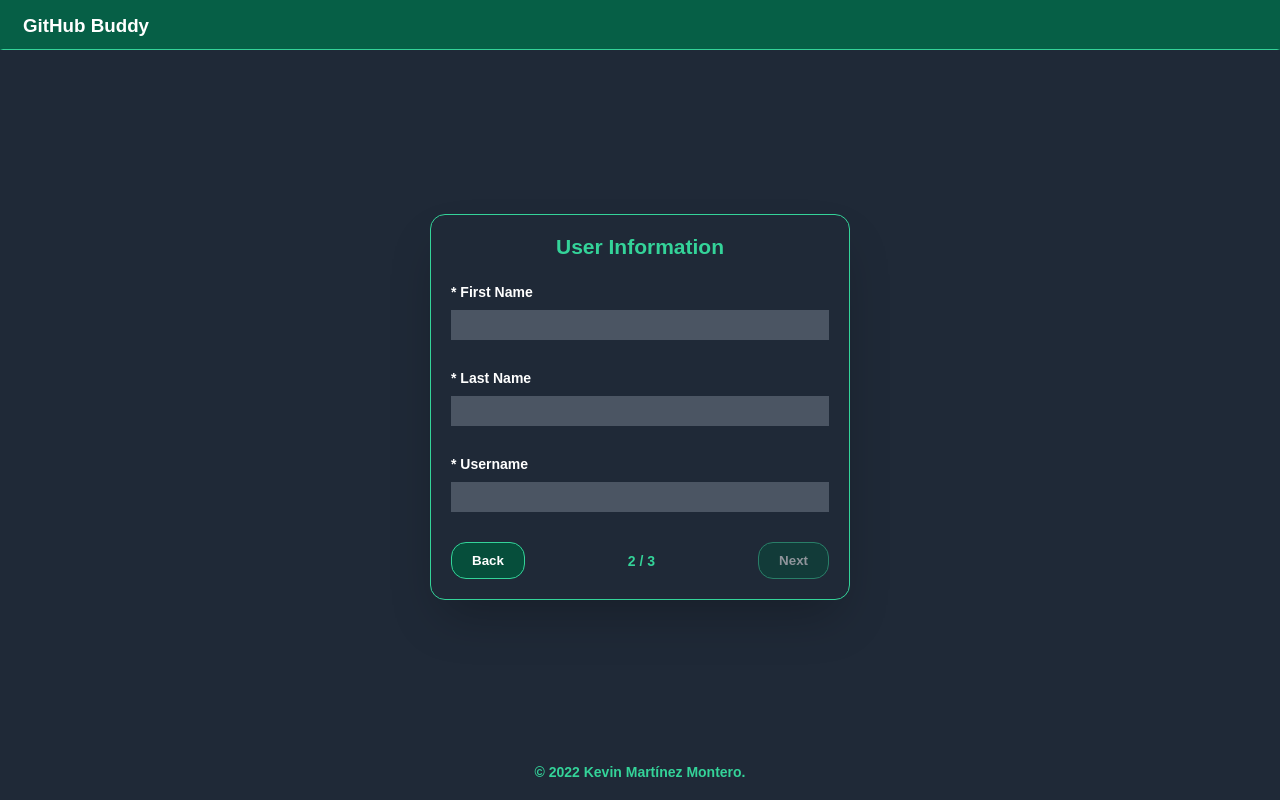
Scenario: Form One › should show error for required last name
Focus the field labelled "* Last Name" at (640, 411), box [451,396,829,426]
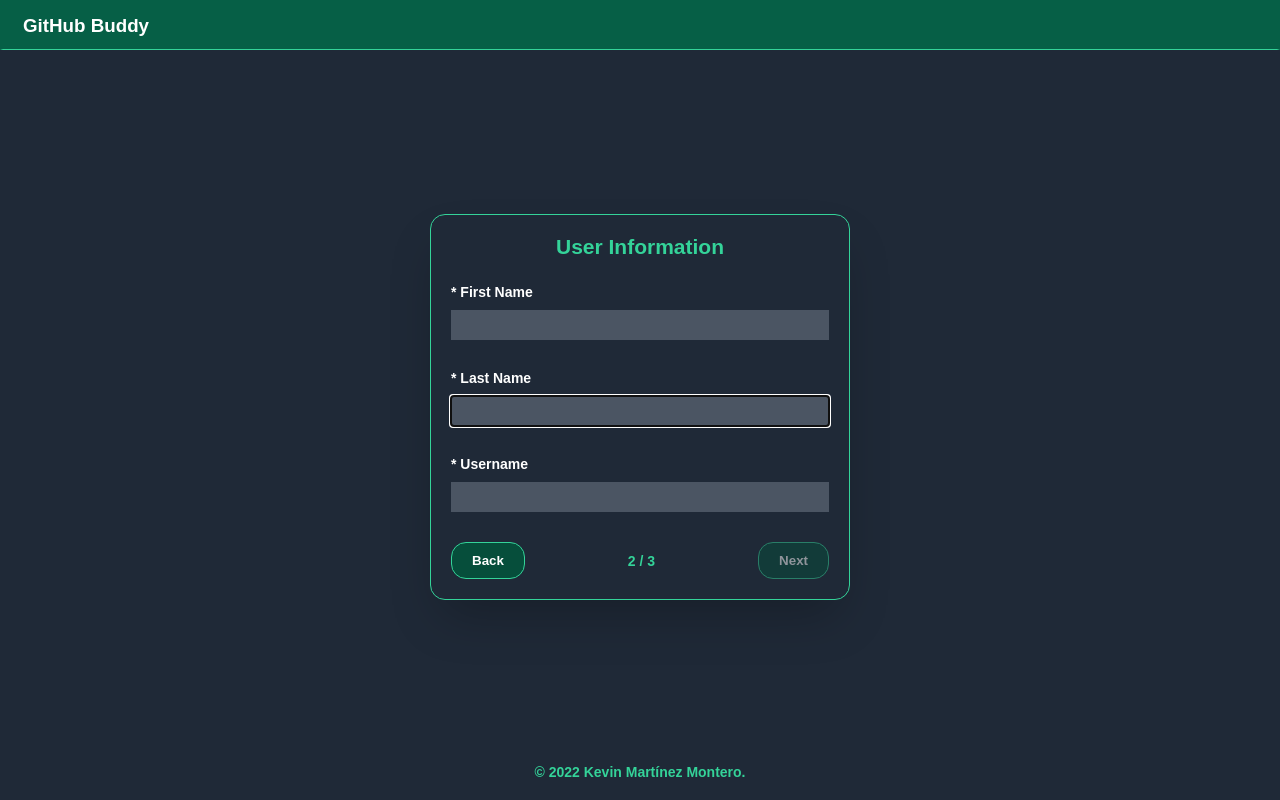
Focus the field labelled "* First Name" at (640, 325), box [451,310,829,340]
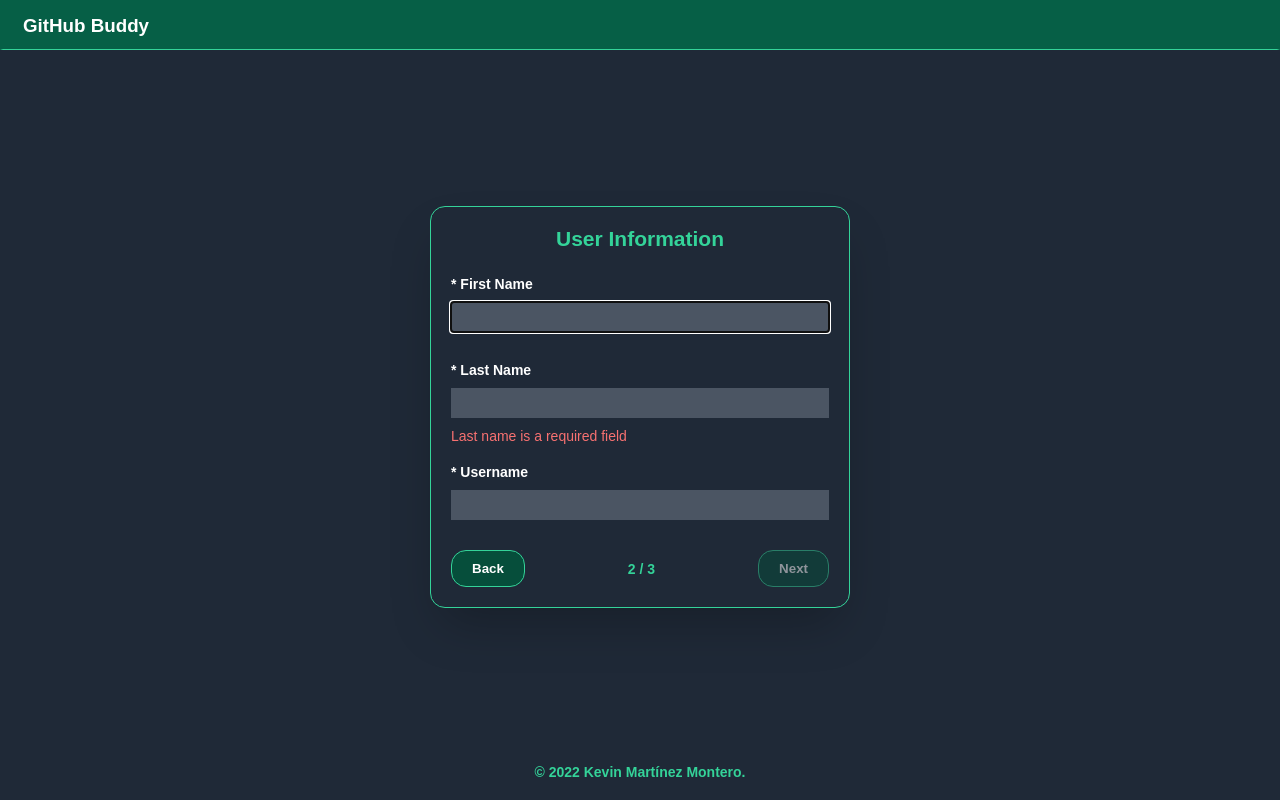
Result: the message "Last name is a required field" is shown at [451,428,627,444]
